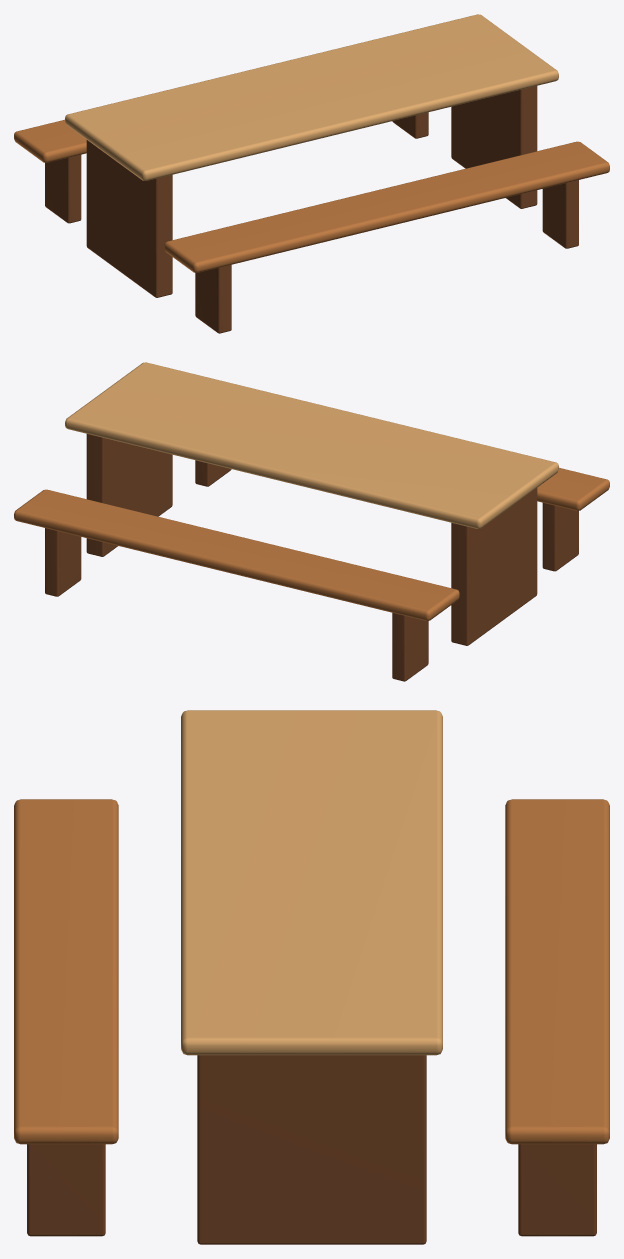
The model's file is long_table.glb.
3 renders of one model, top to bottom at view 1: azimuth 30°, elevation 25°; view 2: azimuth 150°, elevation 25°; view 3: azimuth 270°, elevation 25°, orthographic. The views are drawn at different scales.
Parts seen in each view (by area): view 1: Top, Bench, Leg, Leg.001, BLeg.002, BLeg, BLeg.001, Bench.001, BLeg.003; view 2: Top, Bench.001, Leg, Leg.001, BLeg, BLeg.002, BLeg.003, Bench, BLeg.001; view 3: Top, Leg.001, Bench, Bench.001, BLeg.001, BLeg.003.
Boxes of the visible parts, bbox=[...] form: Top: bbox=[65, 14, 558, 180]; Bench: bbox=[164, 141, 609, 272]; Leg: bbox=[86, 140, 172, 297]; Leg.001: bbox=[451, 86, 537, 208]; BLeg.002: bbox=[45, 155, 81, 223]; BLeg: bbox=[195, 265, 231, 333]; BLeg.001: bbox=[542, 180, 578, 248]; Bench.001: bbox=[14, 119, 86, 162]; BLeg.003: bbox=[392, 112, 428, 138]; Top: bbox=[65, 362, 558, 528]; Bench.001: bbox=[14, 489, 459, 620]; Leg: bbox=[451, 488, 537, 645]; Leg.001: bbox=[86, 434, 172, 556]; BLeg: bbox=[542, 503, 578, 571]; BLeg.002: bbox=[392, 613, 428, 681]; BLeg.003: bbox=[45, 528, 81, 596]; Bench: bbox=[537, 467, 609, 510]; BLeg.001: bbox=[195, 460, 231, 486]; Top: bbox=[181, 710, 442, 1055]; Leg.001: bbox=[197, 1055, 426, 1244]; Bench: bbox=[14, 799, 118, 1144]; Bench.001: bbox=[505, 799, 609, 1144]; BLeg.001: bbox=[27, 1144, 105, 1236]; BLeg.003: bbox=[518, 1144, 596, 1236].
Size of the model in its own units: 2.4 by 0.74 by 1.82.
